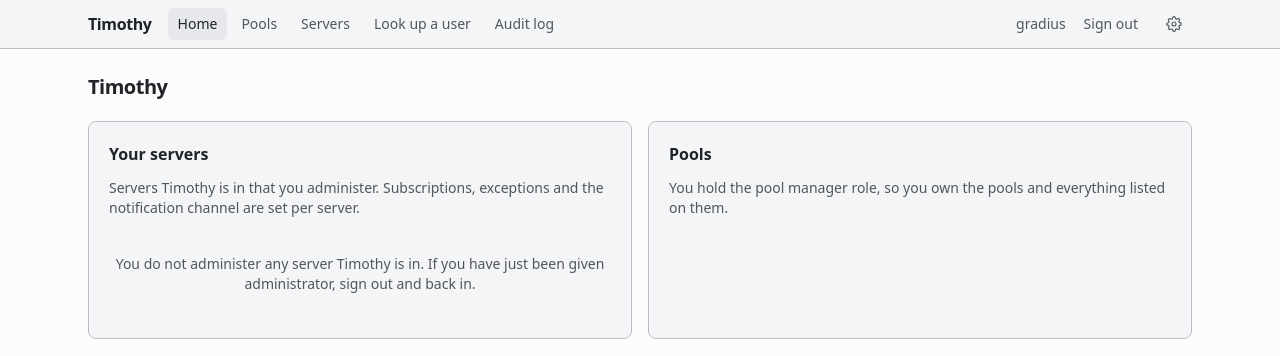
Test: choosing a theme › shows both choices at once, with the current one marked
Click the button named "Settings": (1174, 24) [1156,8,1192,40]
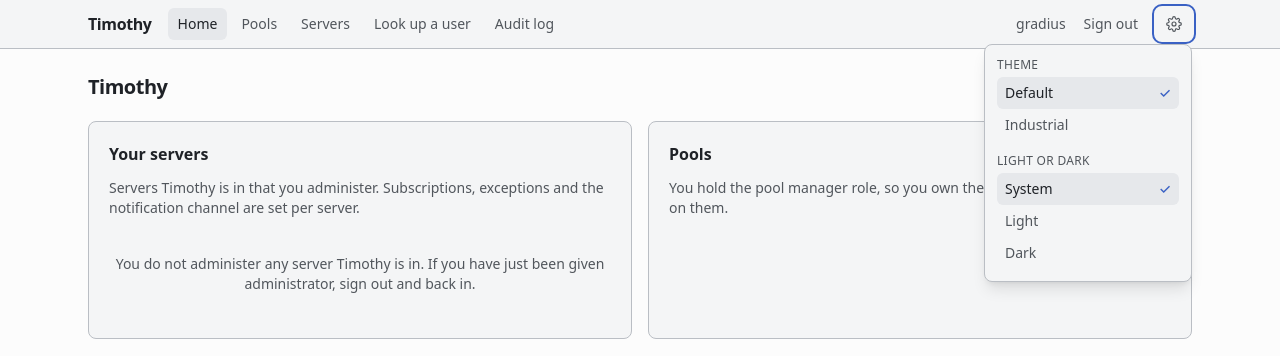
Result: the radio button labelled "Default" is checked at [997,77,1179,109]
Result: the radio button labelled "Industrial" is not checked at [1005,115,1068,134]
Result: the radio button labelled "System" is checked at [997,173,1179,205]
